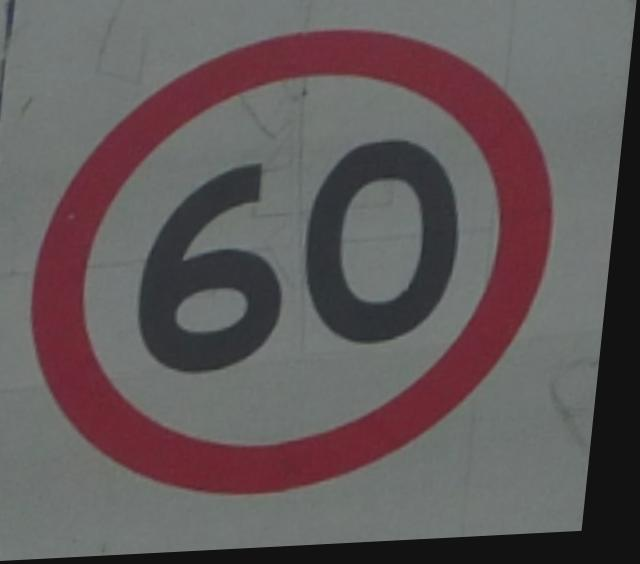limit60: (2, 16, 590, 516)
